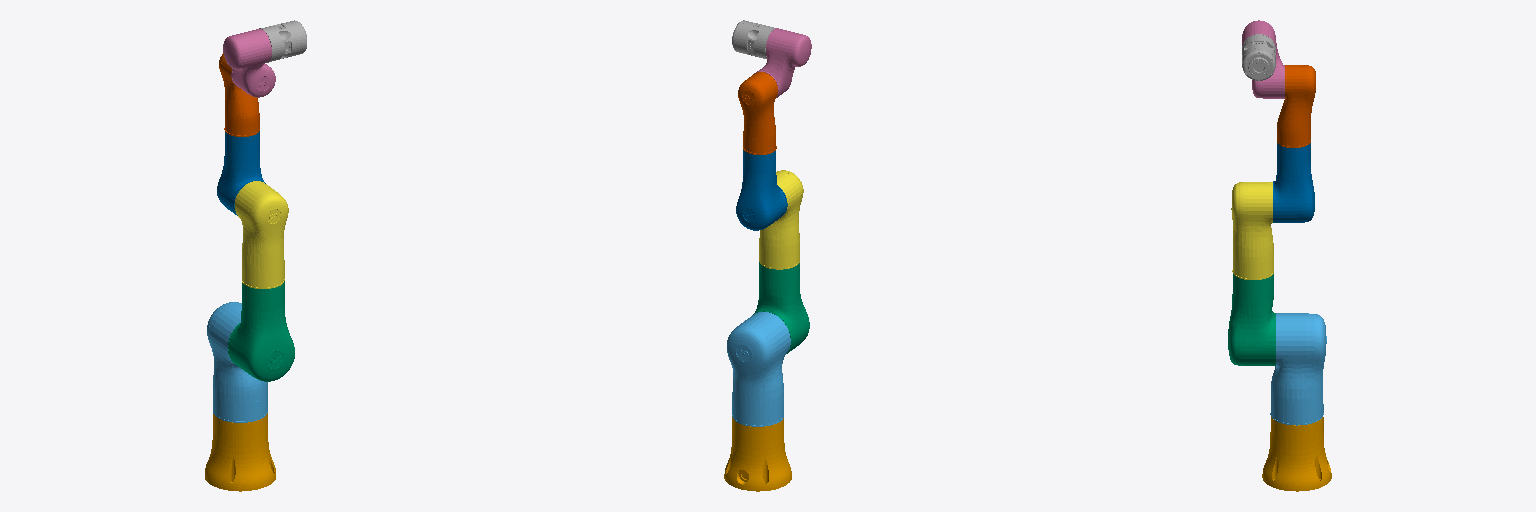
The robot description file, URDF, robot "Rizon10s":
<?xml version="1.0"?>
<!-- ======================================================================== -->
<!-- |          Flexiv Rizon 10s (with blurred dynamic parameters)          | -->
<!-- ======================================================================== -->
<robot name="Rizon10s">
    <joint name="joint1" type="revolute">
        <parent link="base_link" />
        <child link="link1" />
        <origin rpy="0.0 0.0 -3.141592653589793" xyz="0.0 0.0 0.21" />
        <axis xyz="0 0 1" />
        <limit effort="261" lower="-2.8798" upper="2.8798" velocity="1.7453" />
        <safety_controller k_position="100.0" k_velocity="40.0" soft_lower_limit="-2.7925"
            soft_upper_limit="2.7925" />
    </joint>
    <joint name="joint2" type="revolute">
        <parent link="link1" />
        <child link="link2" />
        <origin rpy="0.0 0.0 0.0" xyz="0.0 0.0675 0.24" />
        <axis xyz="0 1 0" />
        <limit effort="261" lower="-2.7576" upper="2.7576" velocity="1.7453" />
        <safety_controller k_position="100.0" k_velocity="40.0" soft_lower_limit="-2.6704"
            soft_upper_limit="2.6704" />
    </joint>
    <joint name="joint3" type="revolute">
        <parent link="link2" />
        <child link="link3" />
        <origin rpy="0.0 0.0 0.0" xyz="0.0 0.0625 0.2275" />
        <axis xyz="0 0 1" />
        <limit effort="123" lower="-2.8798" upper="2.8798" velocity="2.0944" />
        <safety_controller k_position="100.0" k_velocity="40.0" soft_lower_limit="-2.7925"
            soft_upper_limit="2.7925" />
    </joint>
    <joint name="joint4" type="revolute">
        <parent link="link3" />
        <child link="link4" />
        <origin rpy="0.0 0.0 -3.141592653589793" xyz="0.0 -0.0625 0.2225" />
        <axis xyz="0 1 0" />
        <limit effort="123" lower="-2.7925" upper="2.7925" velocity="2.0944" />
        <safety_controller k_position="100.0" k_velocity="40.0" soft_lower_limit="-2.7053"
            soft_upper_limit="2.7053" />
    </joint>
    <joint name="joint5" type="revolute">
        <parent link="link4" />
        <child link="link5" />
        <origin rpy="0.0 0.0 -3.141592653589793" xyz="0.0 0.0575 0.205" />
        <axis xyz="0 0 1" />
        <limit effort="57" lower="-3.0543" upper="3.0543" velocity="3.8397" />
        <safety_controller k_position="100.0" k_velocity="40.0" soft_lower_limit="-2.9671"
            soft_upper_limit="2.9671" />
    </joint>
    <joint name="joint6" type="revolute">
        <parent link="link5" />
        <child link="link6" />
        <origin rpy="0.0 0.0 0.0" xyz="0.0 0.03 0.19" />
        <axis xyz="0 1 0" />
        <limit effort="57" lower="-1.4835" upper="4.6251" velocity="3.8397" />
        <safety_controller k_position="100.0" k_velocity="40.0" soft_lower_limit="-1.3963"
            soft_upper_limit="4.5379" />
    </joint>
    <joint name="joint7" type="revolute">
        <parent link="link6" />
        <child link="link7" />
        <origin rpy="0.0 -1.5707963478683205 0.0" xyz="-0.015 0.073 0.11" />
        <axis xyz="0 0 1" />
        <limit effort="57" lower="-3.0543" upper="3.0543" velocity="3.8397" />
        <safety_controller k_position="100.0" k_velocity="40.0" soft_lower_limit="-2.9671"
            soft_upper_limit="2.9671" />
    </joint>
    <joint name="link7_to_flange" type="fixed">
        <parent link="link7" />
        <child link="flange" />
        <origin rpy="0.0 0.0 -3.141592653589793" xyz="0.0 0.0 0.124" />
    </joint>

    <link name="base_link">
        <inertial>
            <mass value="8.1" />
            <origin rpy="0 0 0" xyz="0.0 -0.0 0.12" />
            <inertia ixx="0.06" ixy="0.0" ixz="-0.0" iyy="0.06" iyz="0.0" izz="0.03" />
        </inertial>
        <visual name="shell">
            <origin rpy="0 0 0" xyz="0 0 0" />
            <geometry>
                <mesh filename="meshes/Rizon10s/visual/link0.stl" />
            </geometry>
        </visual>
        <collision name="convex_mesh">
            <origin rpy="0 0 0" xyz="0 0 0" />
            <geometry>
                <mesh filename="meshes/Rizon10s/collision/link0.stl" />
            </geometry>
        </collision>
        <workspace>
            <origin rpy="0 0 0" xyz="0 0 0.450" />
            <geometry>
                <sphere radius="0.955" />
            </geometry>
        </workspace>
    </link>
    <link name="link1">
        <inertial>
            <mass value="9.5" />
            <origin rpy="0 0 0" xyz="0.0 0.02 0.16" />
            <inertia ixx="0.12" ixy="0.0" ixz="-0.0" iyy="0.11" iyz="0.01" izz="0.04" />
        </inertial>
        <visual name="shell">
            <origin rpy="0 0 0" xyz="0 0 0" />
            <geometry>
                <mesh filename="meshes/Rizon10s/visual/link1.stl" />
            </geometry>
        </visual>
        <visual name="ring">
            <origin rpy="0 0 0" xyz="0 0 -0.0025" />
            <geometry>
                <mesh filename="meshes/Rizon10s/visual/ring.stl" scale="0.079 0.079 0.002" />
            </geometry>
        </visual>
        <collision name="convex_mesh">
            <origin rpy="0 0 0" xyz="0 0 0" />
            <geometry>
                <mesh filename="meshes/Rizon10s/collision/link1.stl" />
            </geometry>
        </collision>
    </link>
    <link name="link2">
        <inertial>
            <mass value="6.6" />
            <origin rpy="0 0 0" xyz="-0.0 0.06 0.09" />
            <inertia ixx="0.08" ixy="0.0" ixz="0.0" iyy="0.08" iyz="0.0" izz="0.01" />
        </inertial>
        <visual name="shell">
            <origin rpy="0 0 0" xyz="0 0 0" />
            <geometry>
                <mesh filename="meshes/Rizon10s/visual/link2.stl" />
            </geometry>
        </visual>
        <visual name="ring">
            <origin rpy="1.5707963 0 0" xyz="0 -0.0025 0" />
            <geometry>
                <mesh filename="meshes/Rizon10s/visual/ring.stl" scale="0.079 0.079 0.002" />
            </geometry>
        </visual>
        <collision name="convex_mesh">
            <origin rpy="0 0 0" xyz="0 0 0" />
            <geometry>
                <mesh filename="meshes/Rizon10s/collision/link2.stl" />
            </geometry>
        </collision>
    </link>
    <link name="link3">
        <inertial>
            <mass value="4.5" />
            <origin rpy="0 0 0" xyz="-0.0 -0.02 0.17" />
            <inertia ixx="0.04" ixy="0.0" ixz="-0.0" iyy="0.03" iyz="-0.01" izz="0.01" />
        </inertial>
        <visual name="shell">
            <origin rpy="0 0 0" xyz="0 0 0" />
            <geometry>
                <mesh filename="meshes/Rizon10s/visual/link3.stl" />
            </geometry>
        </visual>
        <visual name="ring">
            <origin rpy="0 0 0" xyz="0 0 -0.0025" />
            <geometry>
                <mesh filename="meshes/Rizon10s/visual/ring.stl" scale="0.062 0.062 0.002" />
            </geometry>
        </visual>
        <collision name="convex_mesh">
            <origin rpy="0 0 0" xyz="0 0 0" />
            <geometry>
                <mesh filename="meshes/Rizon10s/collision/link3.stl" />
            </geometry>
        </collision>
    </link>
    <link name="link4">
        <inertial>
            <mass value="3.2" />
            <origin rpy="0 0 0" xyz="0.0 0.05 0.09" />
            <inertia ixx="0.03" ixy="0.0" ixz="0.0" iyy="0.03" iyz="0.0" izz="0.0" />
        </inertial>
        <visual name="shell">
            <origin rpy="0 0 0" xyz="0 0 0" />
            <geometry>
                <mesh filename="meshes/Rizon10s/visual/link4.stl" />
            </geometry>
        </visual>
        <visual name="ring">
            <origin rpy="1.5707963 0 0" xyz="0 -0.0025 0" />
            <geometry>
                <mesh filename="meshes/Rizon10s/visual/ring.stl" scale="0.062 0.062 0.002" />
            </geometry>
        </visual>
        <collision name="convex_mesh">
            <origin rpy="0 0 0" xyz="0 0 0" />
            <geometry>
                <mesh filename="meshes/Rizon10s/collision/link4.stl" />
            </geometry>
        </collision>
    </link>
    <link name="link5">
        <inertial>
            <mass value="2.4" />
            <origin rpy="0 0 0" xyz="0.0 0.0 0.14" />
            <inertia ixx="0.01" ixy="0.0" ixz="0.0" iyy="0.01" iyz="0.0" izz="0.0" />
        </inertial>
        <visual name="shell">
            <origin rpy="0 0 0" xyz="0 0 0" />
            <geometry>
                <mesh filename="meshes/Rizon10s/visual/link5.stl" />
            </geometry>
        </visual>
        <visual name="ring">
            <origin rpy="0 0 0" xyz="0 0 -0.0025" />
            <geometry>
                <mesh filename="meshes/Rizon10s/visual/ring.stl" scale="0.051 0.051 0.002" />
            </geometry>
        </visual>
        <collision name="convex_mesh">
            <origin rpy="0 0 0" xyz="0 0 0" />
            <geometry>
                <mesh filename="meshes/Rizon10s/collision/link5.stl" />
            </geometry>
        </collision>
    </link>
    <link name="link6">
        <inertial>
            <mass value="2.3" />
            <origin rpy="0 0 0" xyz="0.02 0.06 0.07" />
            <inertia ixx="0.01" ixy="0.0" ixz="0.0" iyy="0.01" iyz="0.0" izz="0.0" />
        </inertial>
        <visual name="shell">
            <origin rpy="0 0 0" xyz="0 0 0" />
            <geometry>
                <mesh filename="meshes/Rizon10s/visual/link6.stl" />
            </geometry>
        </visual>
        <visual name="ring">
            <origin rpy="1.5707963 0 0" xyz="0 -0.0025 0" />
            <geometry>
                <mesh filename="meshes/Rizon10s/visual/ring.stl" scale="0.051 0.051 0.002" />
            </geometry>
        </visual>
        <collision name="convex_mesh">
            <origin rpy="0 0 0" xyz="0 0 0" />
            <geometry>
                <mesh filename="meshes/Rizon10s/collision/link6.stl" />
            </geometry>
        </collision>
    </link>
    <link name="link7">
        <inertial>
            <mass value="1.5" />
            <origin rpy="0 0 0" xyz="0.0 0.0 0.05" />
            <inertia ixx="0.0" ixy="0.0" ixz="0.0" iyy="0.0" iyz="0.0" izz="0.0" />
        </inertial>
        <visual name="shell">
            <origin rpy="0 0 0" xyz="0 0 0" />
            <geometry>
                <mesh filename="meshes/Rizon10s/visual/link7.stl" />
            </geometry>
        </visual>
        <visual name="ring">
            <origin rpy="0 0 0" xyz="0 0 -0.0025" />
            <geometry>
                <mesh filename="meshes/Rizon10s/visual/ring.stl" scale="0.051 0.051 0.002" />
            </geometry>
        </visual>
        <collision name="convex_mesh">
            <origin rpy="0 0 0" xyz="0 0 0" />
            <geometry>
                <mesh filename="meshes/Rizon10s/collision/link7.stl" />
            </geometry>
        </collision>
    </link>
    <link name="flange">
        <inertial>
            <mass value="0.0" />
            <origin rpy="0 0 0" xyz="0.0 0.0 0.0" />
            <inertia ixx="0.0" ixy="0.0" ixz="0.0" iyy="0.0" iyz="0.0" izz="0.0" />
        </inertial>
    </link>
</robot>

--- Facts derived from the render (not from the file) ---
3 views of the same robot in one strip: view 1: azimuth 30°, elevation 25°; view 2: azimuth 150°, elevation 25°; view 3: azimuth 270°, elevation 25° (orthographic).
Model Rizon10s with 9 links and 8 joints (7 revolute, 1 fixed), rooted at base_link, posed every joint at zero.
Visible links, largest first — view 1: link2, link3, base_link, link1, link6, link4, link5, link7; view 2: link1, base_link, link4, link3, link2, link5, link6, link7; view 3: link1, base_link, link3, link2, link4, link5, link7, link6.
Link boxes in pixels (x1,y1,x2,y2): link2: (228,281,294,381); link3: (234,181,288,288); base_link: (205,413,275,491); link1: (207,302,267,422); link6: (223,29,275,97); link4: (217,131,265,215); link5: (219,53,259,136); link7: (259,20,306,62); link1: (727,312,790,426); base_link: (724,417,791,491); link4: (736,150,787,230); link3: (759,170,803,269); link2: (753,262,809,353); link5: (738,72,777,154); link6: (754,28,811,97); link7: (732,20,774,58); link1: (1270,313,1326,425); base_link: (1262,417,1331,491); link3: (1231,182,1273,279); link2: (1228,274,1275,365); link4: (1273,143,1314,222); link5: (1277,65,1315,147); link7: (1242,34,1275,80); link6: (1242,20,1284,98).
Bounding box of the posed robot: 0.2445 × 0.3073 × 1.46 m (x, y, z).
15 mesh visuals loaded from 9 distinct referenced files (9 binary STL).